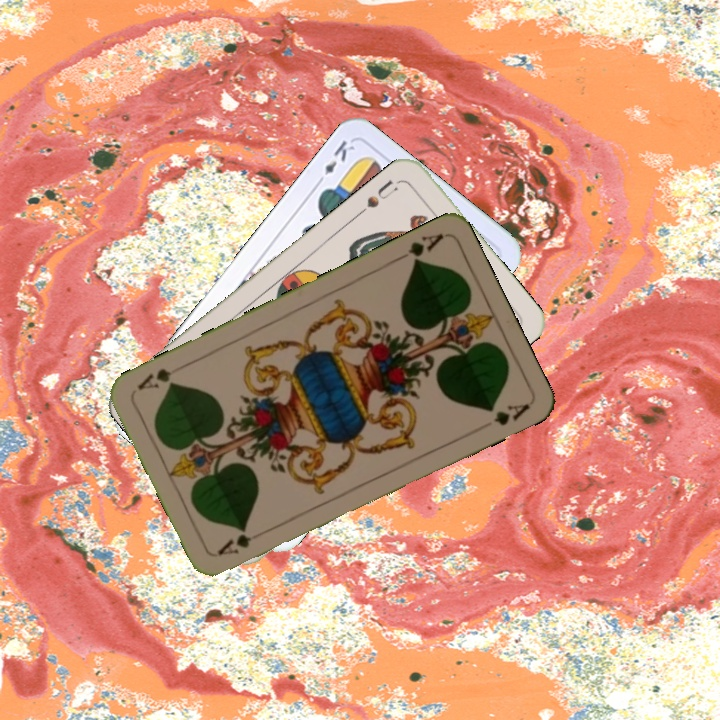EK: (312, 136, 358, 188)
GA: (391, 228, 447, 268), (213, 528, 269, 558)
SU: (354, 176, 401, 218)
